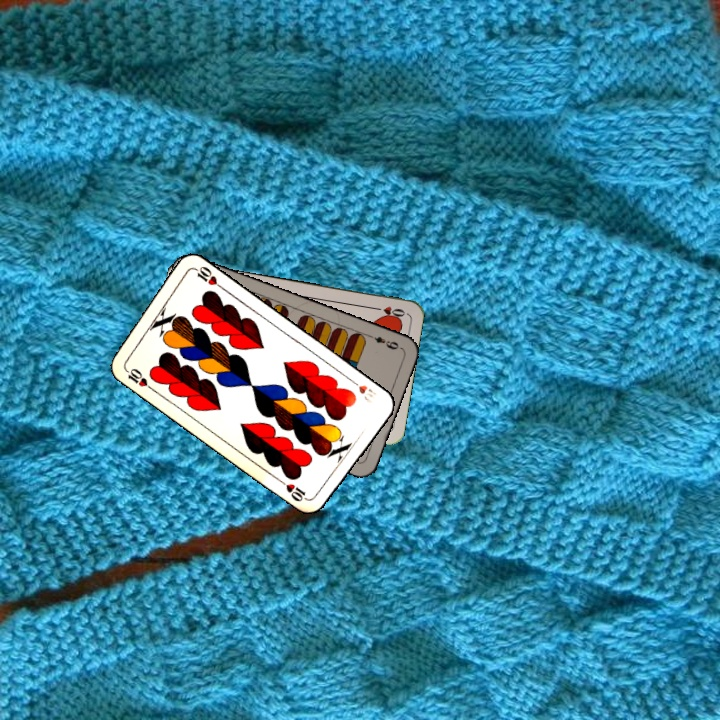E9: (364, 330, 403, 352)
H10: (346, 375, 379, 406), (121, 364, 156, 393)
HO: (368, 302, 408, 321)
